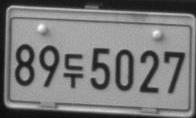0: (114, 48, 134, 91)
2: (138, 48, 160, 93)
5: (89, 46, 111, 90)
7: (163, 50, 185, 94)
8: (14, 42, 35, 86)
9: (38, 44, 60, 87)
두: (63, 52, 83, 88)
